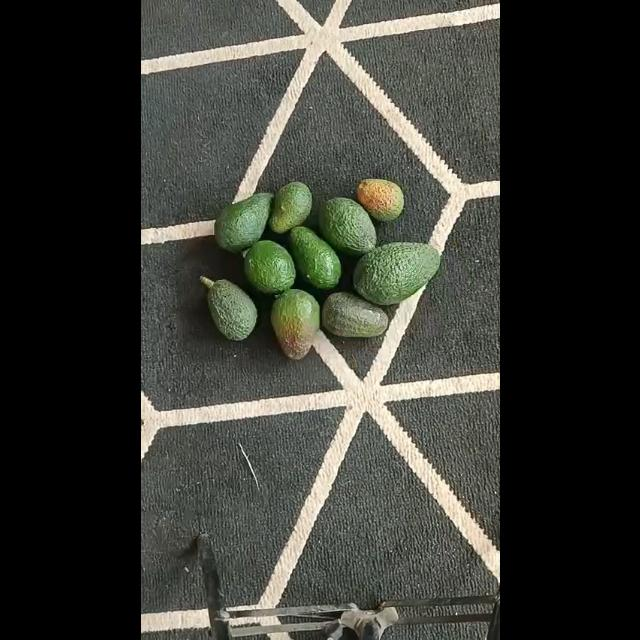Primera: (353, 243, 439, 304)
Segunda: (268, 288, 320, 359), (214, 191, 272, 251), (318, 197, 376, 256), (288, 226, 340, 288), (242, 238, 296, 294)
Tercera: (320, 292, 388, 338), (206, 278, 256, 339), (268, 182, 312, 234), (356, 178, 404, 222)
